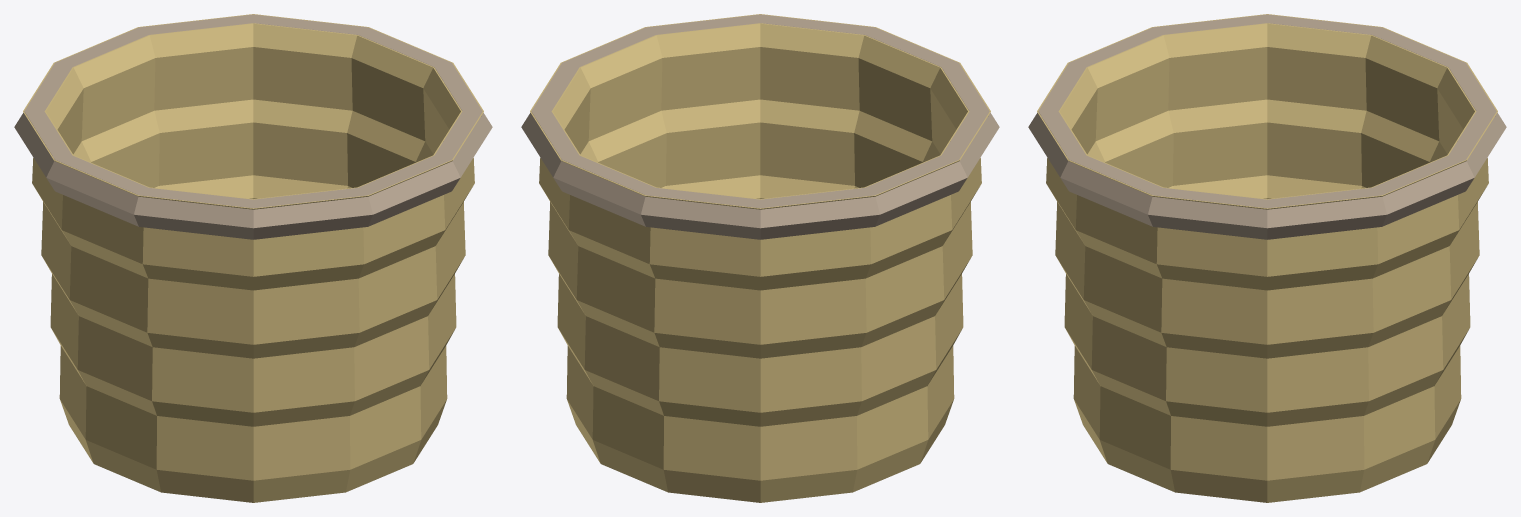
The model's file is SM_LPI_Decor_Basket_01.fbx.
3 renders of one model, left to right at view 1: azimuth 30°, elevation 25°; view 2: azimuth 150°, elevation 25°; view 3: azimuth 270°, elevation 25°, orthographic.
Visible parts, largest first — view 1: SM_LPI_Decor_Basket_01; view 2: SM_LPI_Decor_Basket_01; view 3: SM_LPI_Decor_Basket_01.
Part boxes in pixels (bbox=[...]): SM_LPI_Decor_Basket_01: bbox=[14, 14, 492, 502]; SM_LPI_Decor_Basket_01: bbox=[521, 14, 999, 502]; SM_LPI_Decor_Basket_01: bbox=[1028, 14, 1506, 502].
Size of the model in its own units: 0.332 by 0.2401 by 0.332.
